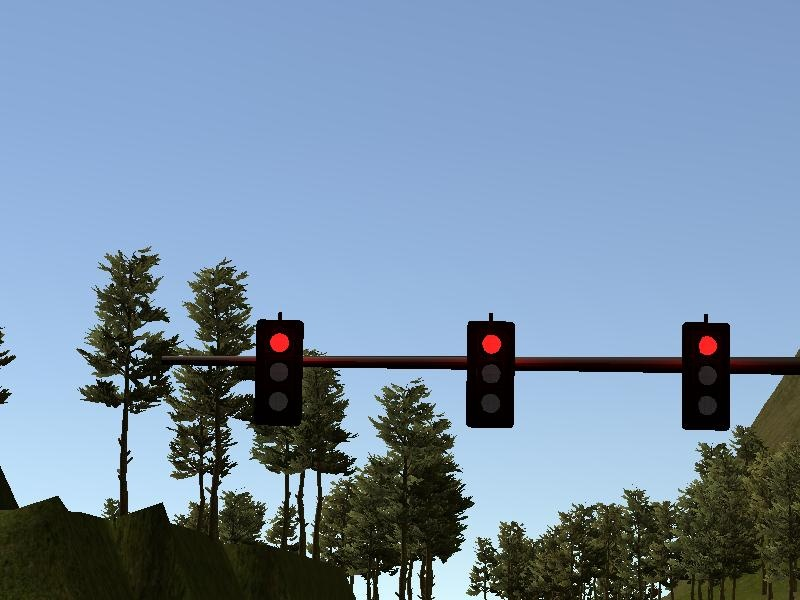Red: (678, 319, 733, 434), (464, 319, 517, 430), (253, 318, 303, 428)
